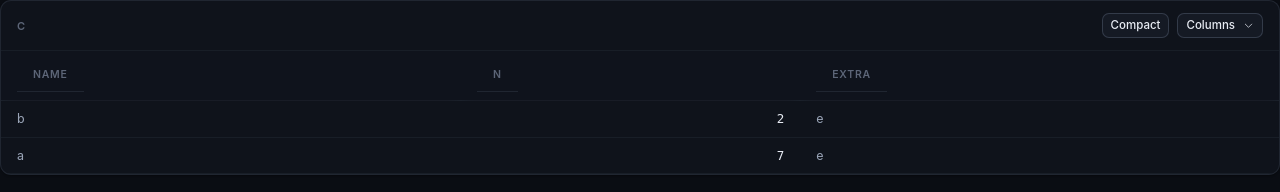
Test: DataTable (Table/DataTable.tsx) › density button presses and unpresses the compact class
This screenshot has width=1280, height=192.
Click the button "Compact" at point(1136, 26), box [1102,13,1170,38]
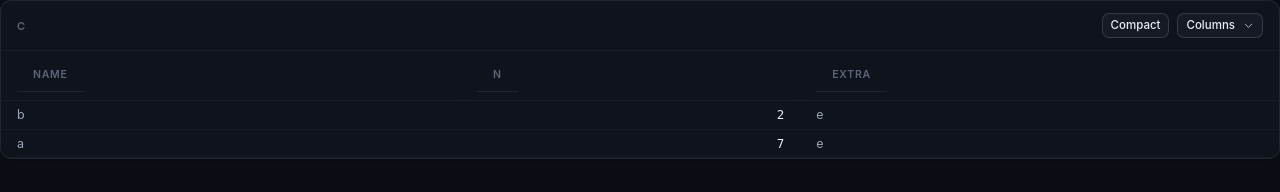
Expected: the element with class "compact" is shown, [1,51,1279,158]
